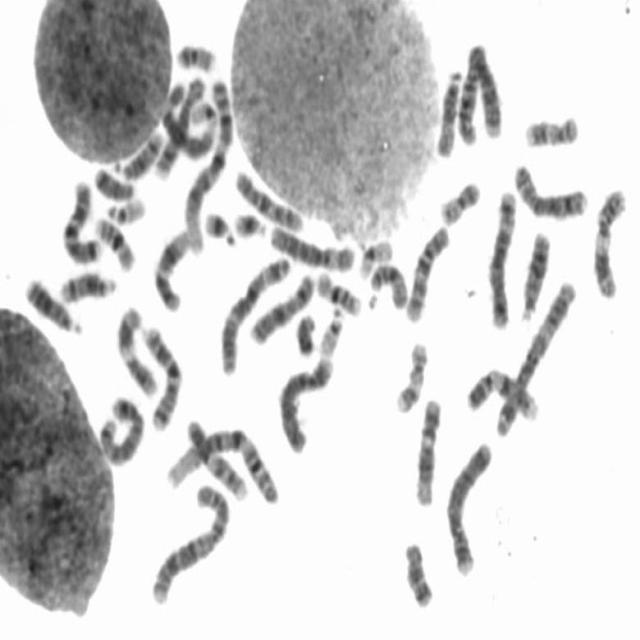A1: (162, 417, 282, 506), (179, 69, 235, 255)
A2: (145, 474, 233, 608), (453, 34, 505, 145)
A3: (489, 269, 578, 441), (214, 245, 293, 377)
B4: (442, 431, 496, 577), (273, 347, 337, 455)
B5: (482, 180, 520, 331), (94, 388, 147, 467)
C10: (401, 215, 452, 324), (230, 161, 306, 234)
C11: (588, 178, 630, 300), (112, 296, 160, 400)
C12: (148, 220, 192, 314), (409, 389, 444, 507)
C6: (155, 72, 217, 163), (265, 215, 357, 273)
C7: (137, 316, 185, 432), (57, 172, 105, 266)
C8: (150, 68, 209, 180), (508, 153, 590, 221)
C9: (182, 412, 250, 502), (461, 358, 542, 422)
D13: (21, 267, 84, 337), (515, 222, 553, 322)
D14: (112, 122, 165, 181), (54, 262, 118, 304)
D15: (431, 60, 464, 158), (364, 253, 410, 310)
E16: (89, 206, 138, 273), (311, 260, 364, 318)
E17: (390, 332, 430, 415), (519, 104, 582, 150)
E18: (398, 531, 436, 610), (89, 158, 137, 202)
F19: (353, 230, 395, 280), (185, 93, 220, 129)
F20: (435, 170, 484, 227), (171, 32, 218, 74)
G21: (199, 200, 238, 248), (228, 202, 268, 240)
G22: (314, 298, 346, 358), (101, 188, 148, 226)
X: (244, 264, 318, 346)
Y: (290, 304, 318, 358)
